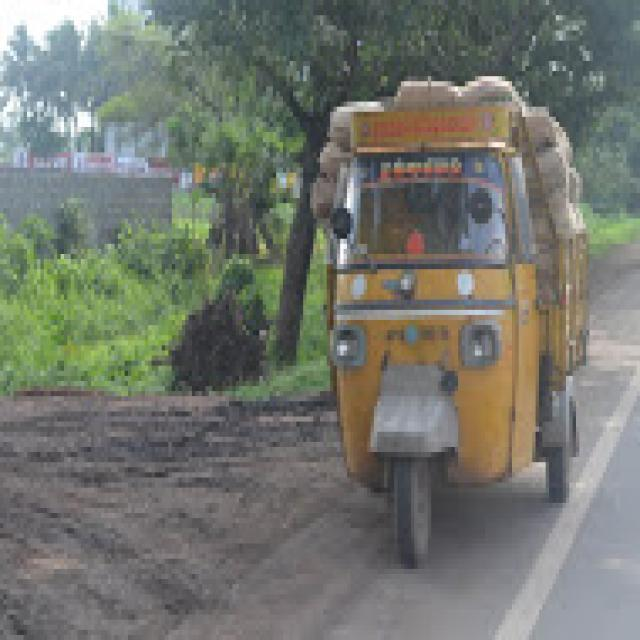auto_front: (306, 72, 592, 568)
